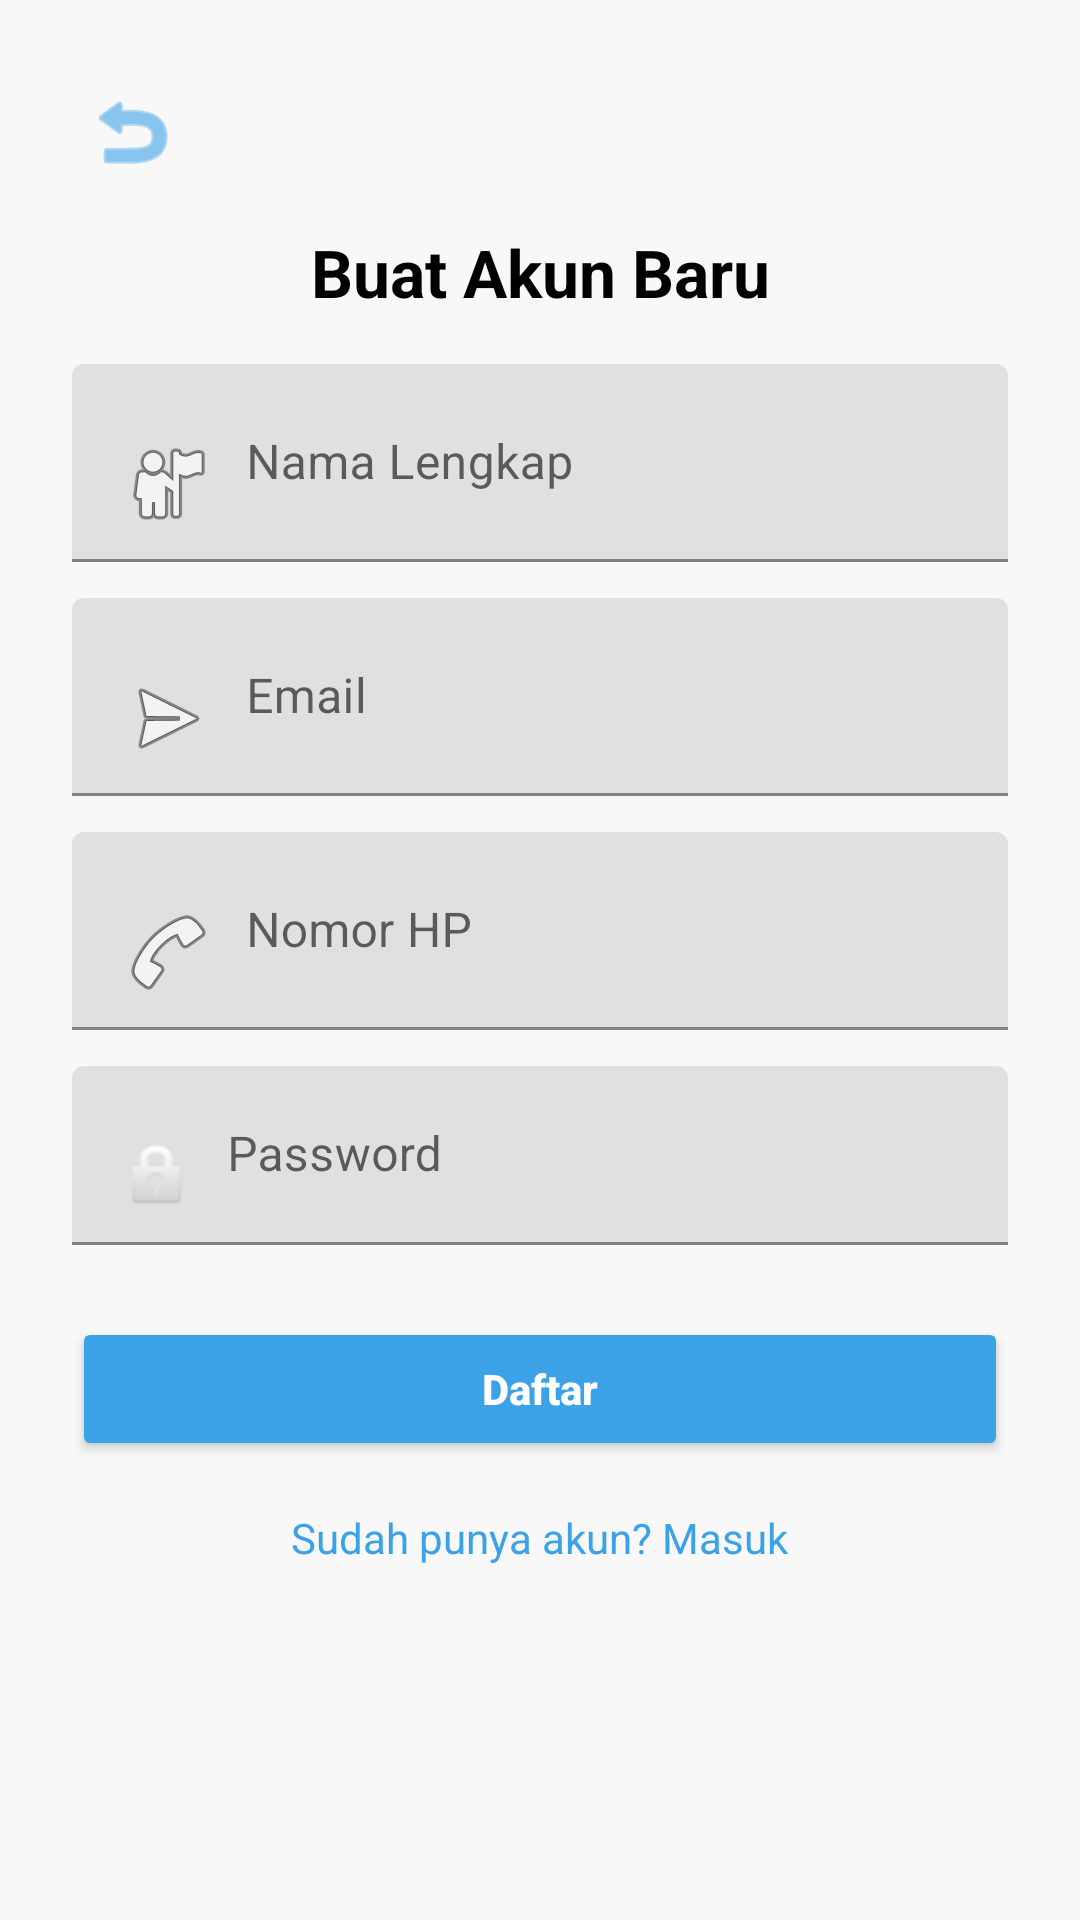

Named icons in this screenshot (1080px×1920px) and their centers, (x,y):
Back: (133,132)
